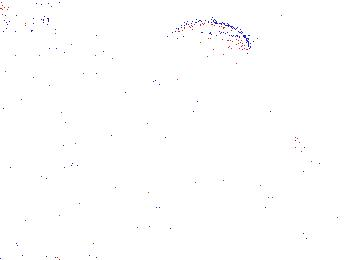moon jellyfish: (149, 21, 251, 91), (48, 1, 161, 58), (269, 86, 327, 178), (1, 8, 59, 81)
